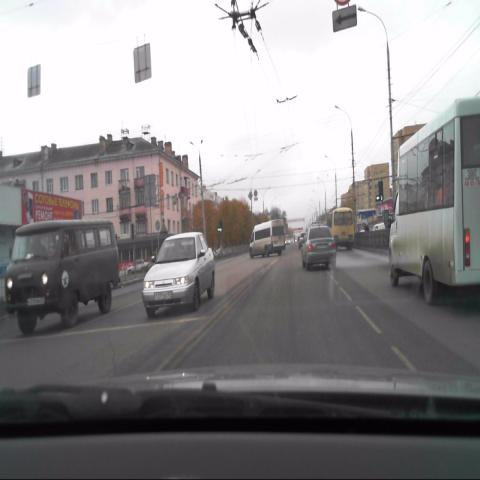8_3_2: (331, 7, 357, 33)
